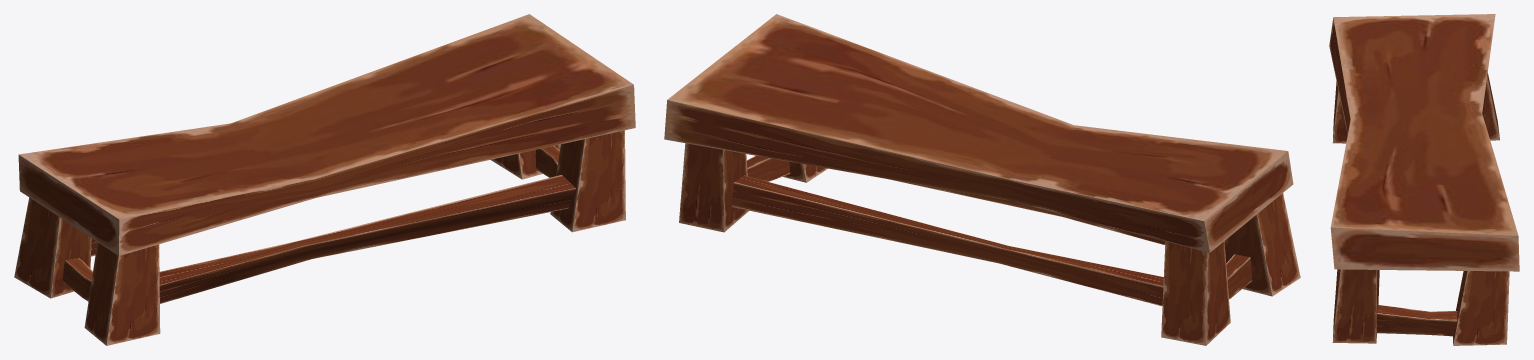
The model's file is SM_PROP_bench_01.glb.
3 renders of one model, left to right at view 1: azimuth 30°, elevation 25°; view 2: azimuth 150°, elevation 25°; view 3: azimuth 270°, elevation 25°, orthographic. The views are drawn at different scales.
Parts seen in each view (by area): view 1: SM_PROP_bench_01_EXPORT; view 2: SM_PROP_bench_01_EXPORT; view 3: SM_PROP_bench_01_EXPORT.
Part boxes in pixels (x1=…): SM_PROP_bench_01_EXPORT: x1=14, y1=14, x2=635, y2=345; SM_PROP_bench_01_EXPORT: x1=664, y1=14, x2=1300, y2=345; SM_PROP_bench_01_EXPORT: x1=1329, y1=14, x2=1519, y2=345.
Size of the model in its own units: 1.81 by 0.4421 by 0.6406.
1 material, 1 textured.
